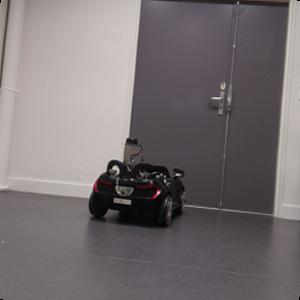big: (85, 157, 189, 231)
